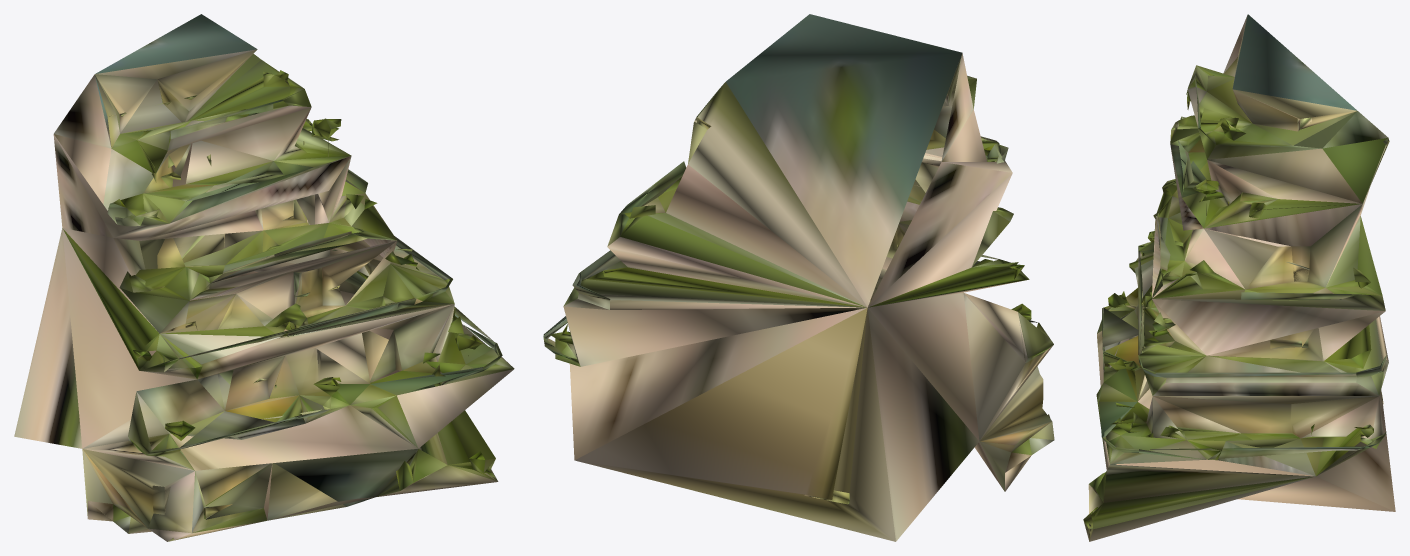
The model's file is terrace_block_far.glb.
3 views of the same model, side by side, from view 1: azimuth 30°, elevation 25°; view 2: azimuth 150°, elevation 25°; view 3: azimuth 270°, elevation 25° (orthographic). The views are drawn at different scales.
Parts seen in each view (by area): view 1: tripo_node_c245fe47-13e5-4eea-a156-1a9d624c74f5; view 2: tripo_node_c245fe47-13e5-4eea-a156-1a9d624c74f5; view 3: tripo_node_c245fe47-13e5-4eea-a156-1a9d624c74f5.
Part boxes in pixels (x1,y1,x2,y2): tripo_node_c245fe47-13e5-4eea-a156-1a9d624c74f5: [14, 14, 514, 541]; tripo_node_c245fe47-13e5-4eea-a156-1a9d624c74f5: [543, 14, 1054, 541]; tripo_node_c245fe47-13e5-4eea-a156-1a9d624c74f5: [1083, 14, 1395, 541].
Bounding box in the file's own units: 23.84 × 26 × 18.82.
Materials: 1 (1 with a texture image).
